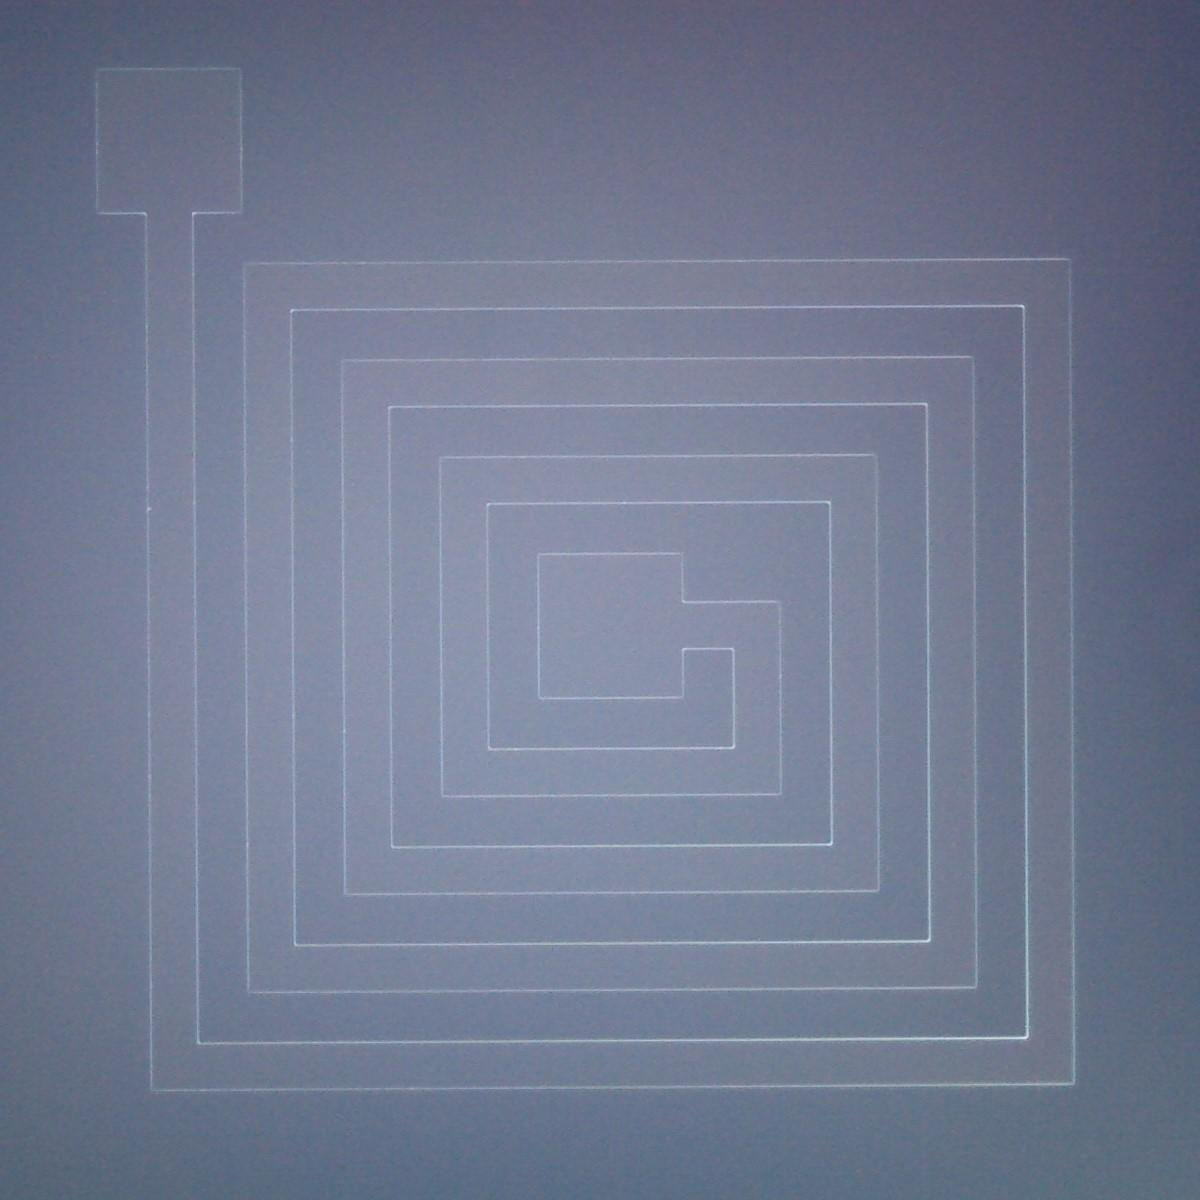s_point: (141, 501, 158, 516)
